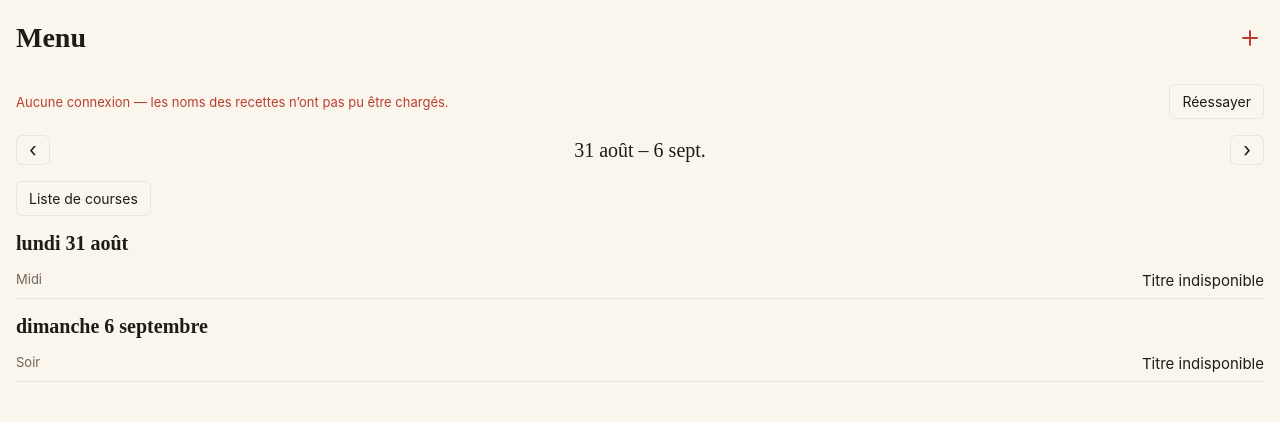
MenuContainer — consultation des menus enregistrés › relancer les titres ne retire pas le menu de l’écran : il reste, son constat annonce le chargement et n’offre plus de relance
Expected: the text "31 août – 6 sept." is shown, [574,138,706,162]
Click the button "Réessayer".
click(1217, 102)  # box [1169,84,1264,119]
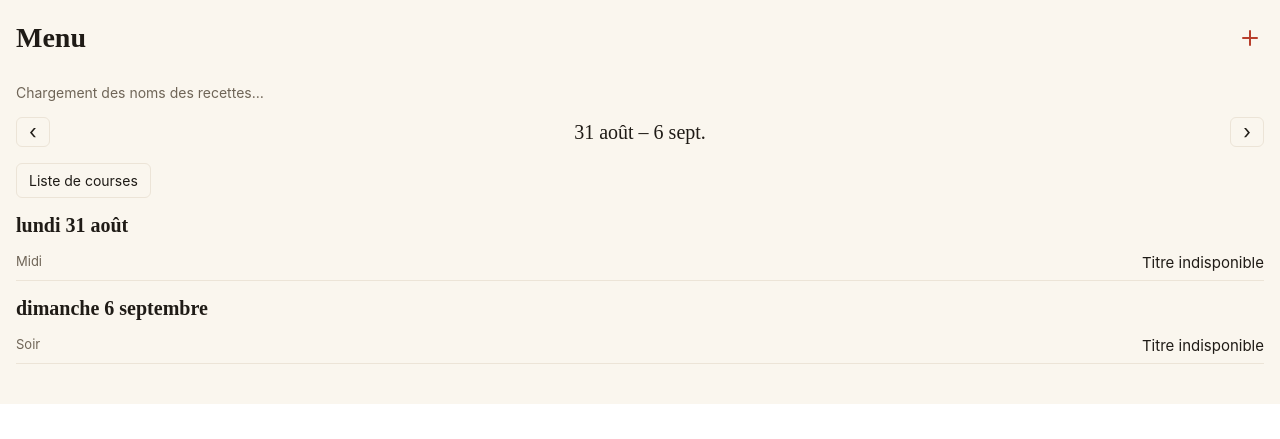
Expected: the text "31 août – 6 sept." is shown, [574,120,706,144]
Expected: the message reads "Chargement des noms des recettes…", [16,84,264,101]
Expected: the button "Réessayer" is gone
